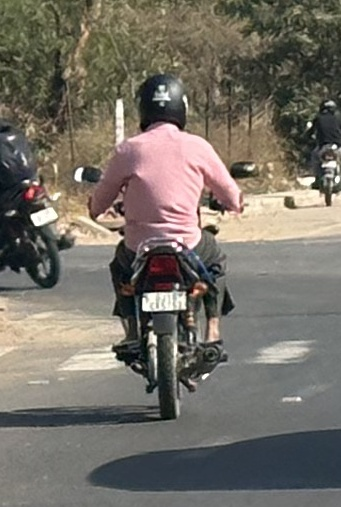BikeWithRider: (67, 66, 262, 426), (0, 112, 70, 294), (297, 94, 341, 211)
Helmet: (130, 70, 193, 135), (317, 96, 337, 117)
